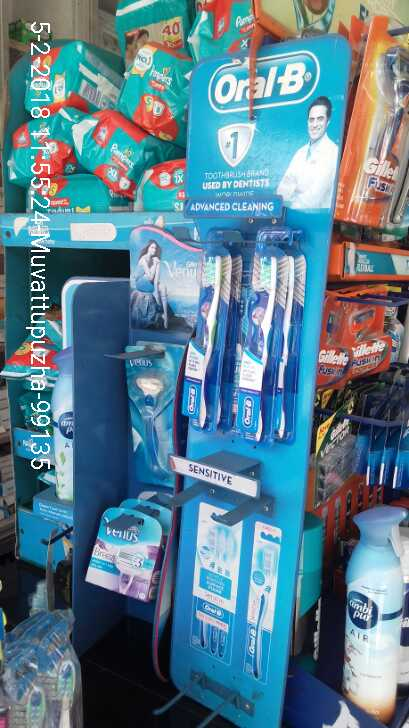beauty: (121, 341, 178, 475), (318, 295, 400, 384), (95, 498, 163, 598)
home: (338, 495, 409, 727)
pharmacy: (17, 44, 188, 213), (242, 236, 294, 446), (192, 243, 223, 430)
